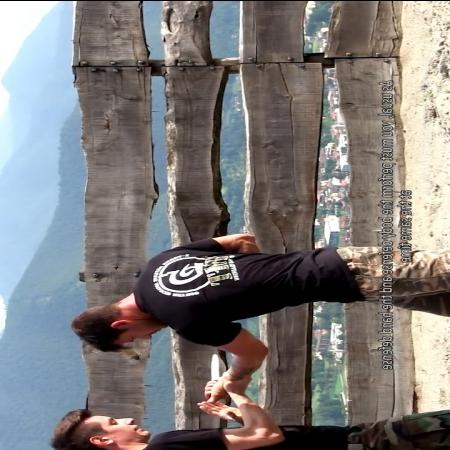long weapon: (199, 350, 223, 401)
